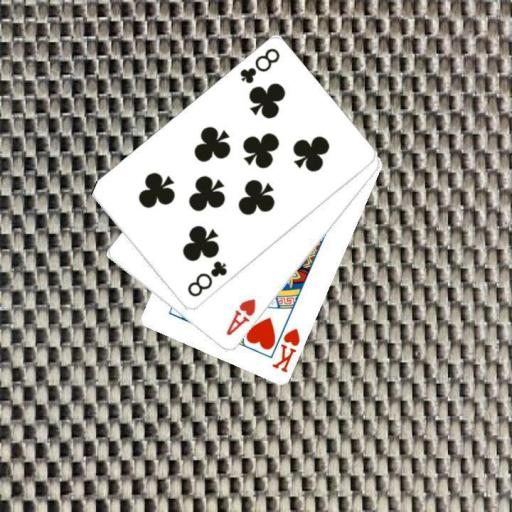card-corner: (236, 45, 282, 86), (183, 258, 229, 298), (269, 325, 301, 375), (222, 295, 258, 338)
